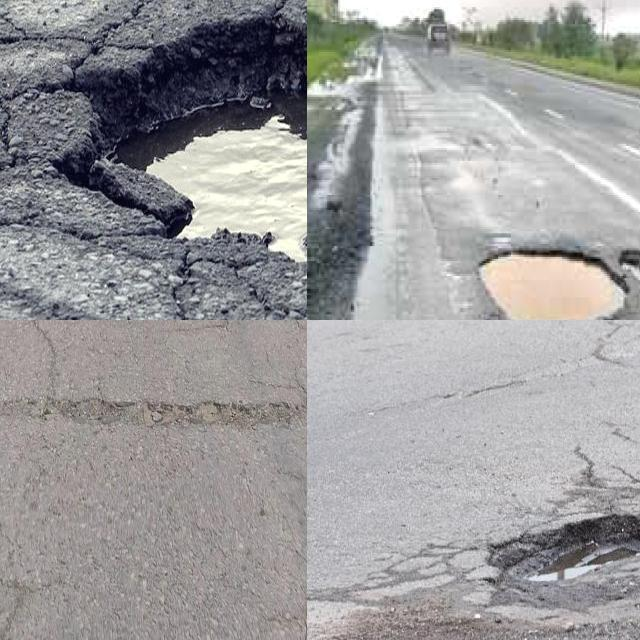Pothole: (36, 13, 307, 262), (477, 250, 631, 320), (487, 515, 640, 581)
